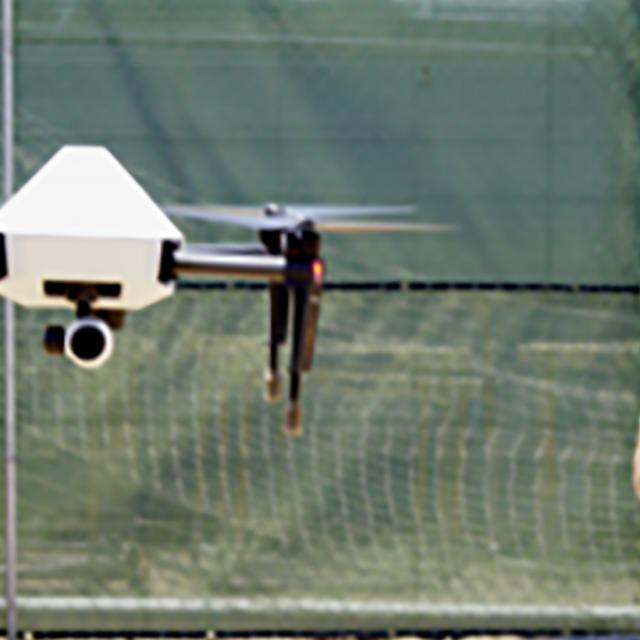drone: (0, 140, 466, 412)
